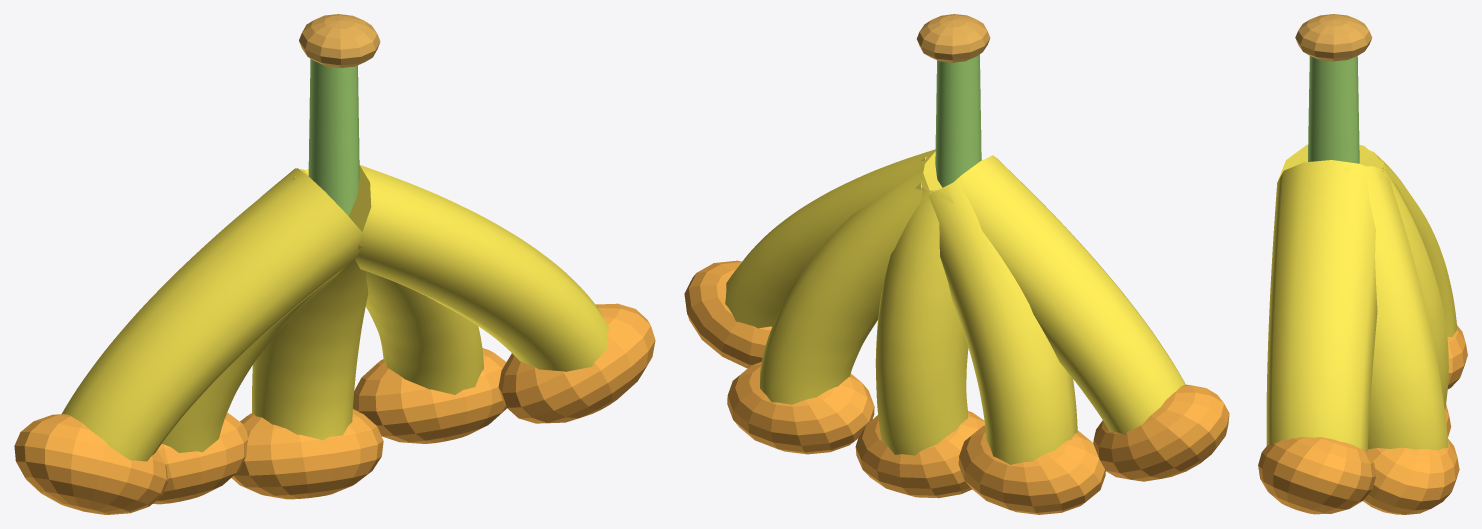
File: banana_peel.glb
3 renders of one model, left to right at view 1: azimuth 30°, elevation 25°; view 2: azimuth 150°, elevation 25°; view 3: azimuth 270°, elevation 25°, orthographic. The views are drawn at different scales.
Parts seen in each view (by area): view 1: BananaPeel; view 2: BananaPeel; view 3: BananaPeel.
Boxes of the visible parts, x1=… form: BananaPeel: x1=14, y1=14, x2=655, y2=514; BananaPeel: x1=684, y1=14, x2=1229, y2=514; BananaPeel: x1=1258, y1=14, x2=1467, y2=514.
Size of the model in its own units: 0.45 by 0.35 by 0.15.
